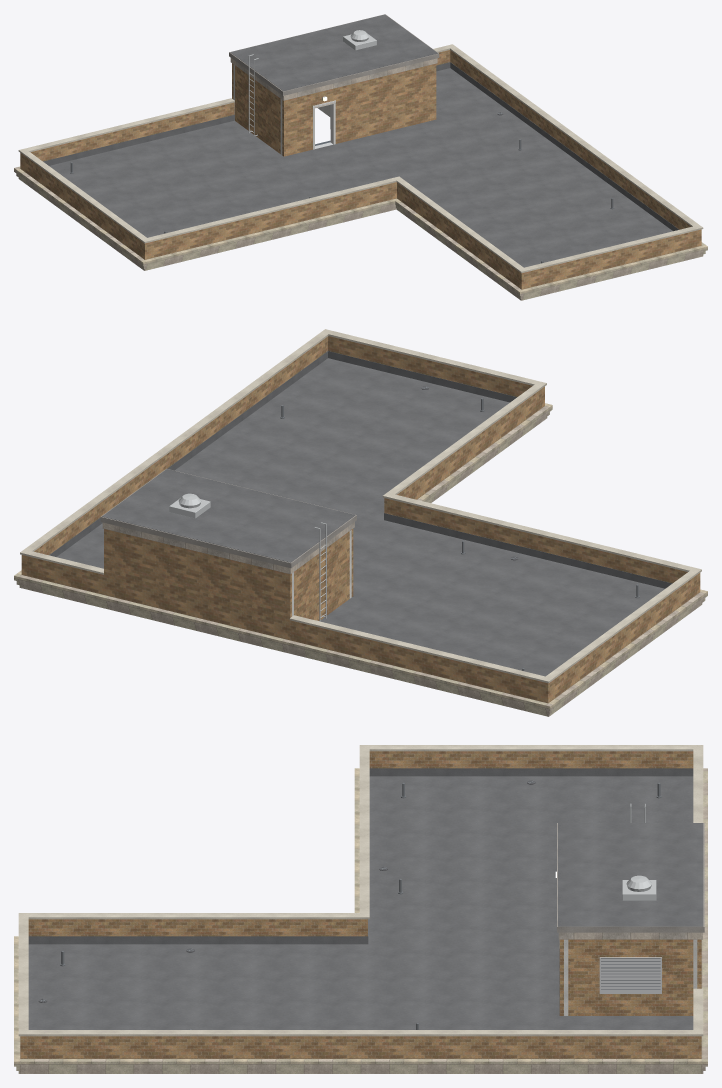
The model's file is roof.glb.
3 renders of one model, top to bottom at view 1: azimuth 30°, elevation 25°; view 2: azimuth 150°, elevation 25°; view 3: azimuth 270°, elevation 25°, orthographic. The views are drawn at different scales.
Visible parts, largest first — view 1: roof_membrane, roof_brick, roof_stone, roof_coping, roof_conc_s, roof_galv; view 2: roof_membrane, roof_brick, roof_stone, roof_coping, roof_conc_s, roof_galv; view 3: roof_membrane, roof_brick, roof_stone, roof_coping, roof_alu, roof_conc_s, roof_alu_d, roof_galv, roof_plaster.
Part boxes in pixels (<box>): roof_membrane: <box>43,14,678,267</box>; roof_brick: <box>20,50,701,289</box>; roof_stone: <box>14,58,707,300</box>; roof_coping: <box>18,44,703,273</box>; roof_conc_s: <box>229,14,439,95</box>; roof_galv: <box>248,30,376,136</box>; roof_membrane: <box>49,351,672,676</box>; roof_brick: <box>21,336,700,703</box>; roof_stone: <box>14,403,707,716</box>; roof_coping: <box>20,329,701,683</box>; roof_conc_s: <box>100,468,356,568</box>; roof_galv: <box>169,493,326,621</box>; roof_membrane: <box>28,768,703,1029</box>; roof_brick: <box>20,751,701,1058</box>; roof_stone: <box>14,768,707,1073</box>; roof_coping: <box>18,745,703,1036</box>; roof_alu: <box>599,957,661,993</box>; roof_conc_s: <box>557,823,704,932</box>; roof_alu_d: <box>601,958,660,989</box>; roof_galv: <box>622,803,656,900</box>; roof_plaster: <box>564,939,697,1015</box>.
Bounding box in the file's own units: 24.44 × 4.67 × 24.44.
Materials: 16 (7 with a texture image).
